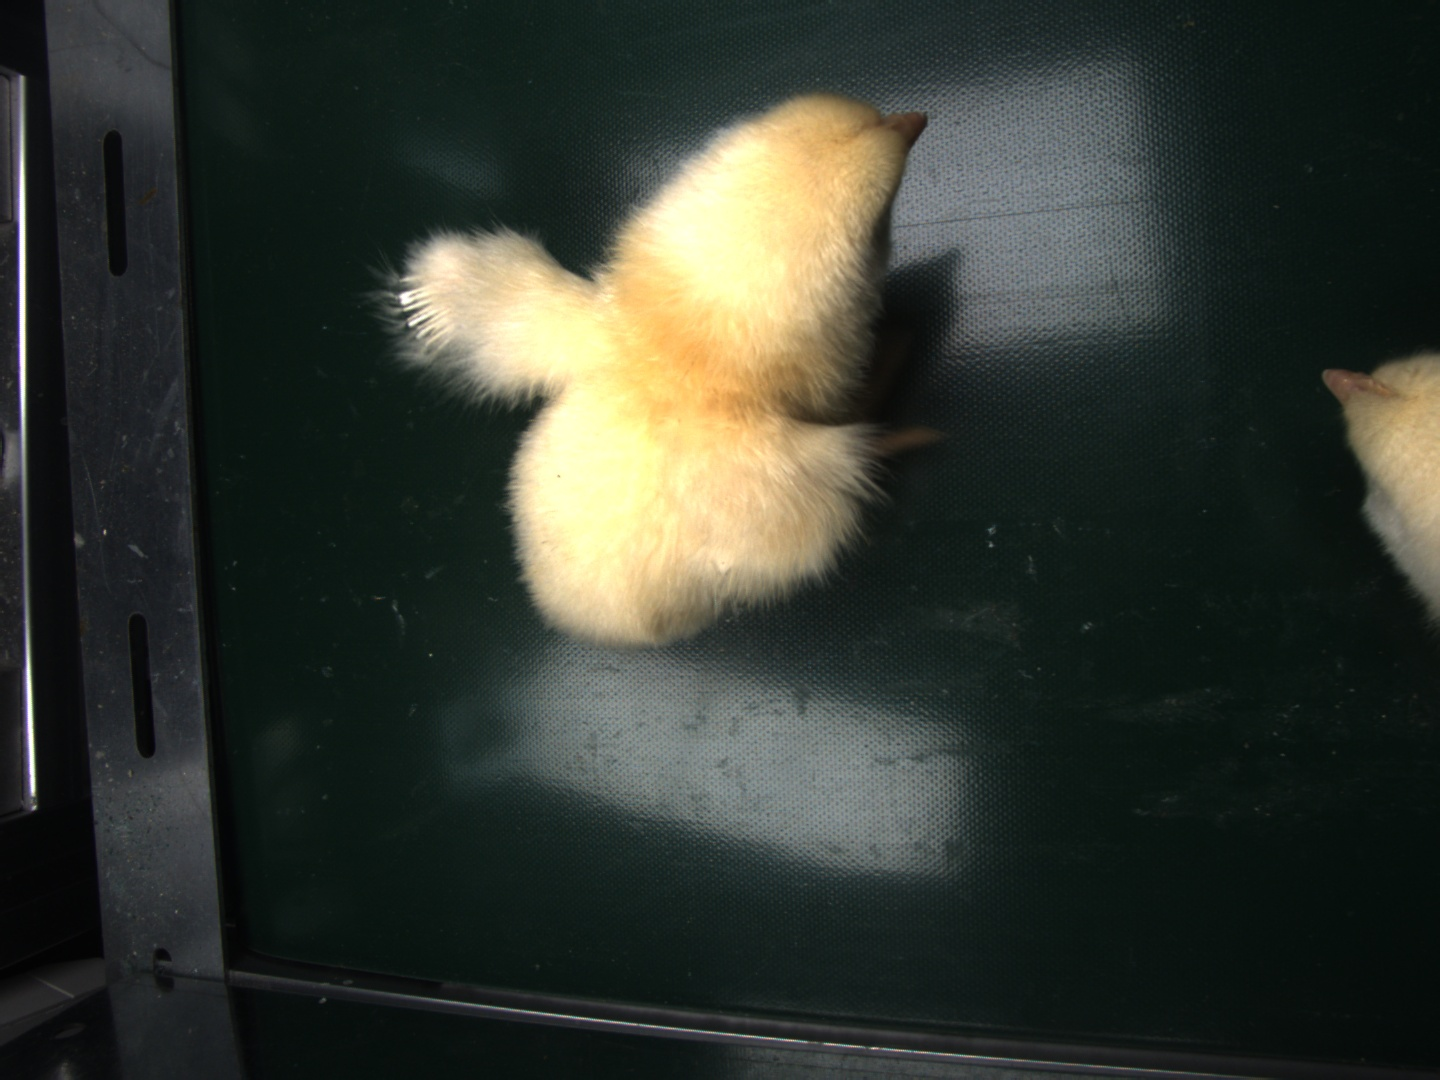male: (401, 277, 458, 349)
